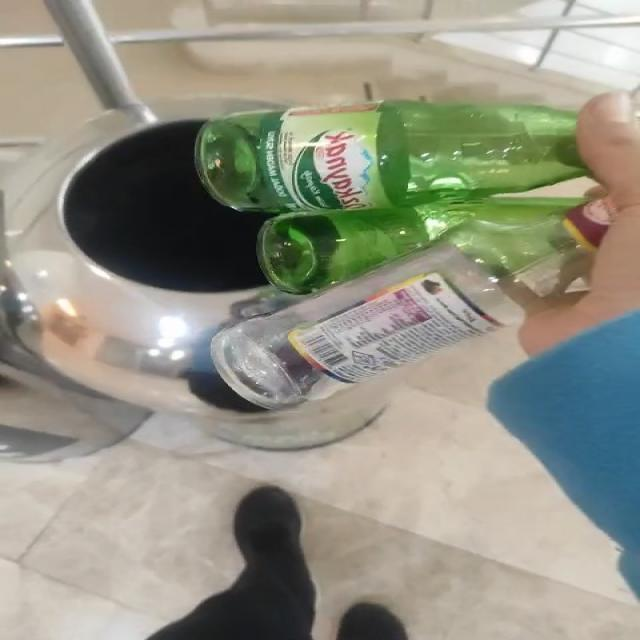Glass: (196, 100, 617, 409)
